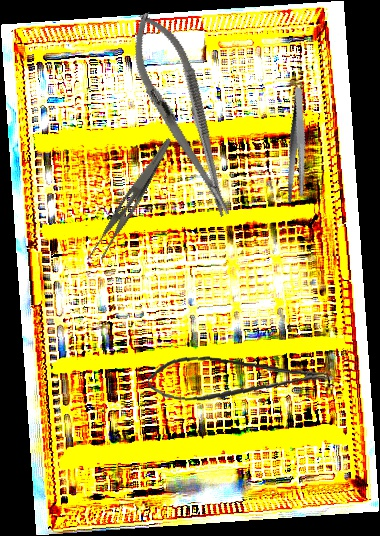Dressing Forceps: (84, 129, 173, 271), (262, 86, 333, 207)
Micro Scissor: (146, 350, 329, 415)
Needle Holder: (117, 4, 250, 226)
